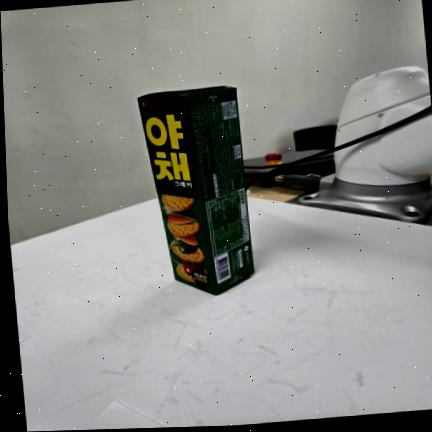cracker_vege: (138, 86, 254, 294)
